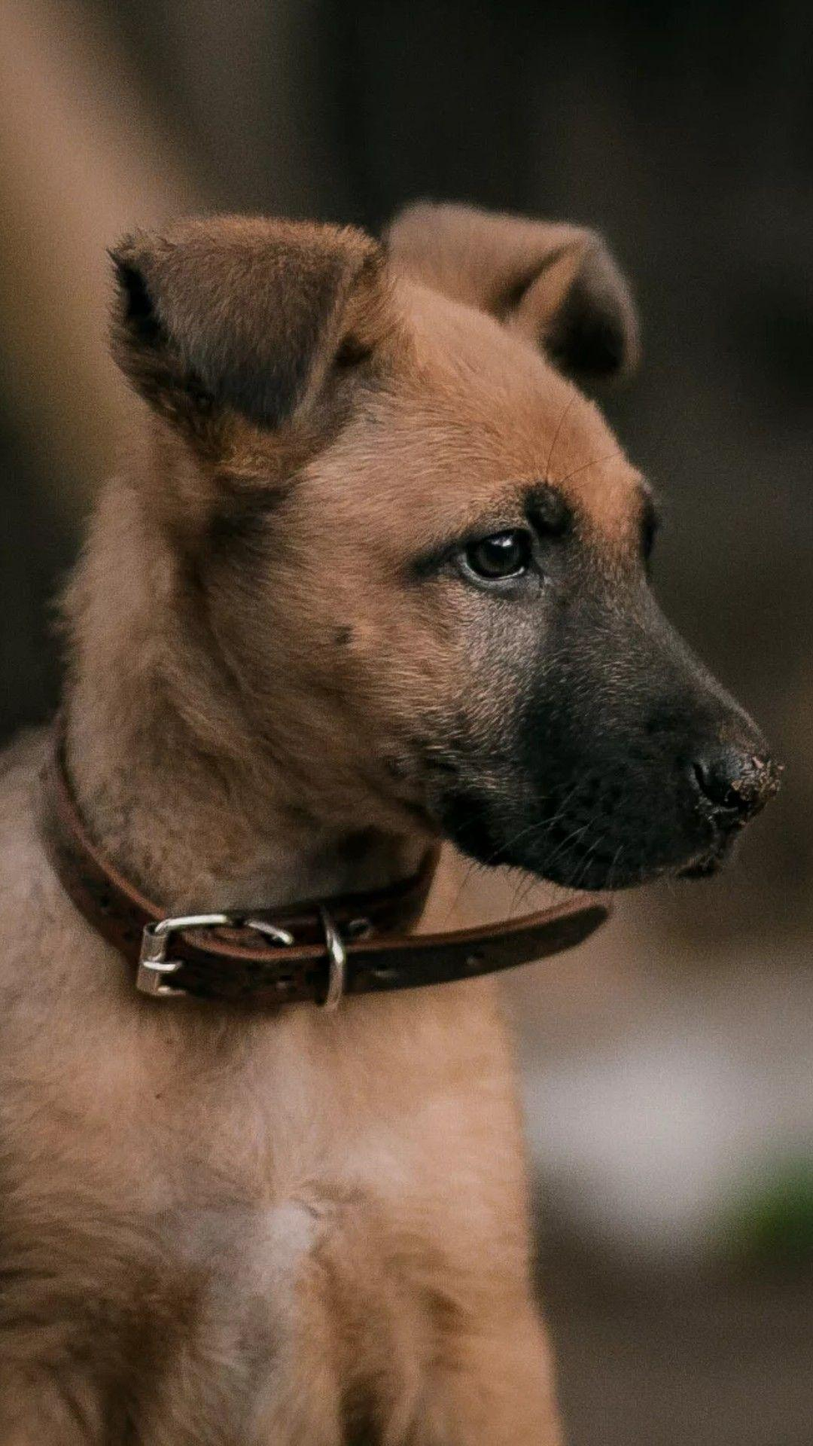puppy-dog: (0, 200, 790, 1446)
